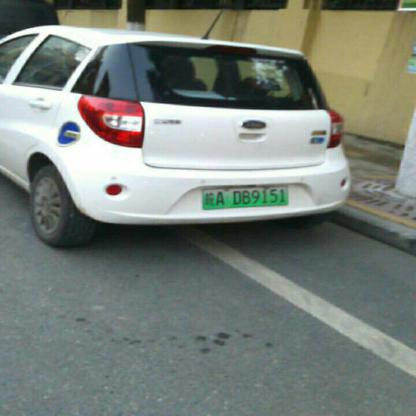lp: (203, 184, 289, 210)
